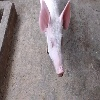heo: (37, 1, 71, 78)
